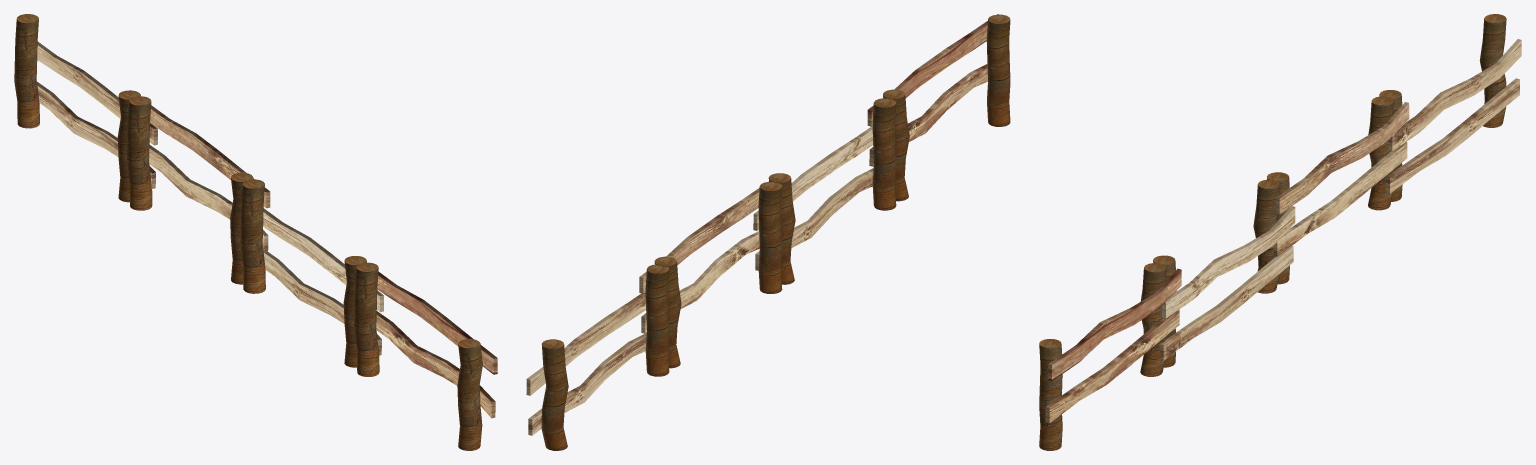
File: Rangé 4 barrières droites (2).FBX
3 renders of one model, left to right at view 1: azimuth 30°, elevation 25°; view 2: azimuth 150°, elevation 25°; view 3: azimuth 330°, elevation 25°, orthographic.
Visible parts, largest first — view 1: Barrières droites; view 2: Barrières droites; view 3: Barrières droites.
Boxes of the visible parts, box(x1,y1,x2,y2) form: Barrières droites: box(14, 14, 497, 450); Barrières droites: box(526, 14, 1010, 450); Barrières droites: box(1039, 14, 1521, 450).
Size of the model in its own units: 18.64 by 59.94 by 495.
